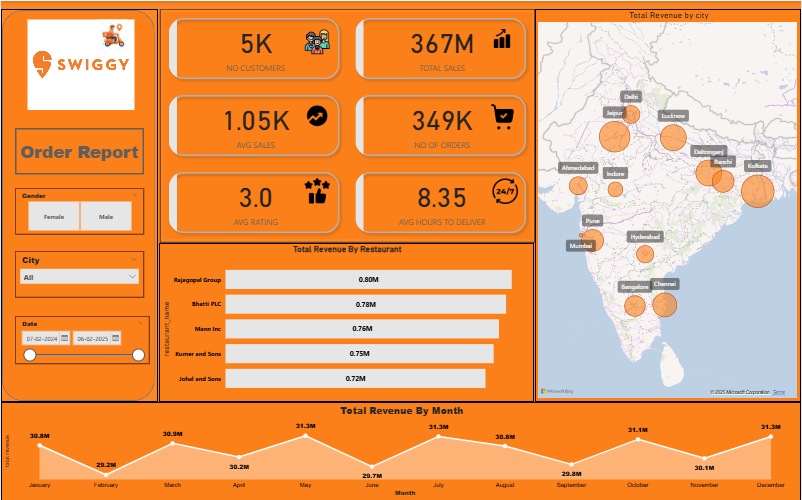

Layout of this report page (visuals, bound fields, positions):
{"tool":"powerbi","page":{"name":"Sales Dash Board","canvas":[1600,1000],"ordinal":0},"visuals":[{"type":"shape","box":[0,16,314,786],"z":0},{"type":"image","box":[47.8,32.6,223.9,191.3],"z":1000},{"type":"image","box":[173.9,32.6,97.8,69.6],"z":2000},{"type":"slicer","fields":{"Values":["Customer.gender"]},"box":[27.9,374.4,258.1,93],"z":3000},{"type":"slicer","fields":{"Values":["Restaurant.city"]},"box":[27.9,500,258.1,93],"z":4000},{"type":"slicer","fields":{"Values":["Date.Date"]},"box":[27.3,629.9,268.8,96.1],"z":5000},{"type":"actionButton","box":[27.9,253.5,258.1,93],"z":6000},{"type":"cardVisual","fields":{"Data":["Table.NO CUSTOMERS","Table.total revenue","Table.AVG SALES","Table.complted orders","Table.avg rating","Table.AVG TIME TO DELIVER"]},"box":[317.4,15.2,750,467.4],"z":7000},{"type":"lineChart","title":"Total Revenue By Month","fields":{"Y":["Table.total revenue"],"Category":["Date.Date.Variation.Date Hierarchy.Month"]},"box":[0,802.1,1600,197.9],"z":8000},{"type":"barChart","title":"Total Revenue By Restaurant","fields":{"Category":["Restaurant.restaurant_name"],"Y":["Table.total revenue"]},"box":[316,484,750,318],"z":9000},{"type":"map","title":"Total Revenue by city","fields":{"Category":["Restaurant.city"],"Size":["Table.total revenue"]},"box":[1068,16,532,786],"z":10000},{"type":"image","box":[602.2,347.8,60.9,63],"z":11000},{"type":"image","box":[978.3,347.8,60.9,65.2],"z":12000},{"type":"image","box":[602.2,200,60.9,58.7],"z":13000},{"type":"image","box":[965.2,195.7,73.9,69.6],"z":14000},{"type":"image","box":[973.9,47.8,56.5,54.3],"z":15000},{"type":"image","box":[602.2,47.8,60.9,67.4],"z":16000}]}

Visuals, with their boxes in screenshot pixels (x1, y1, x2, y2), scaled from the page's 1600x1000 canvas onto the 802x500 screenshot:
shape: (x1=0, y1=8, x2=157, y2=401)
image: (x1=24, y1=16, x2=136, y2=112)
image: (x1=87, y1=16, x2=136, y2=51)
slicer - Customer.gender: (x1=14, y1=187, x2=143, y2=234)
slicer - Restaurant.city: (x1=14, y1=250, x2=143, y2=296)
slicer - Date.Date: (x1=14, y1=315, x2=148, y2=363)
actionButton: (x1=14, y1=127, x2=143, y2=173)
cardVisual - Table.NO CUSTOMERS x Table.total revenue: (x1=159, y1=8, x2=535, y2=241)
"Total Revenue By Month" lineChart: (x1=0, y1=401, x2=801, y2=499)
"Total Revenue By Restaurant" barChart: (x1=158, y1=242, x2=534, y2=401)
"Total Revenue by city" map: (x1=535, y1=8, x2=801, y2=401)
image: (x1=302, y1=174, x2=332, y2=205)
image: (x1=490, y1=174, x2=521, y2=206)
image: (x1=302, y1=100, x2=332, y2=129)
image: (x1=484, y1=98, x2=521, y2=133)
image: (x1=488, y1=24, x2=516, y2=51)
image: (x1=302, y1=24, x2=332, y2=58)
